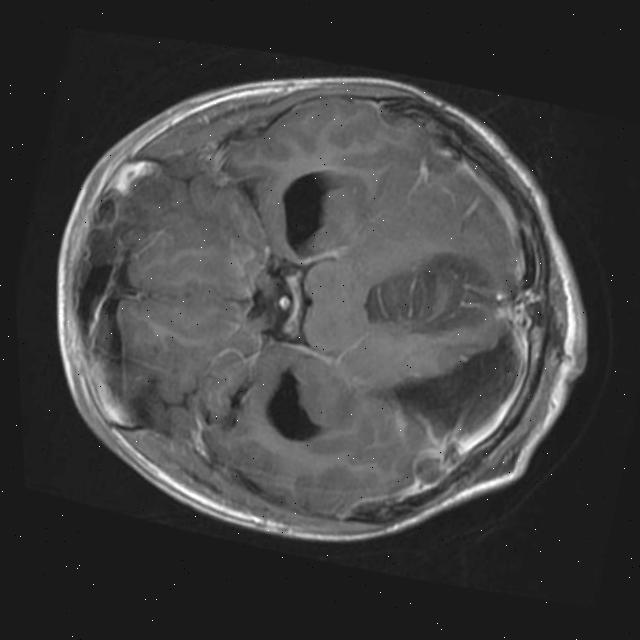Glioma: (355, 228, 503, 353)
